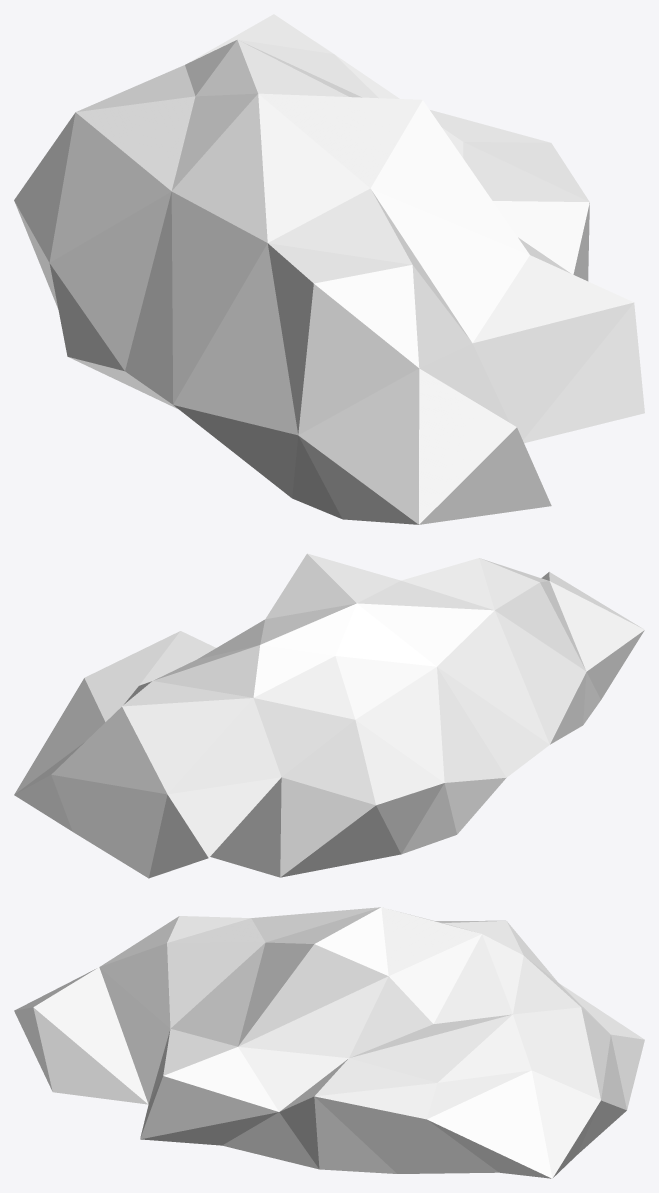
Rendered from RG_Cloud-04.fbx.
3 views of the same model, one above another, from view 1: azimuth 30°, elevation 25°; view 2: azimuth 150°, elevation 25°; view 3: azimuth 270°, elevation 25° (orthographic). The views are drawn at different scales.
Parts seen in each view (by area): view 1: RG_Cloud-04; view 2: RG_Cloud-04; view 3: RG_Cloud-04.
Part boxes in pixels (x1,y1,x2,y2): RG_Cloud-04: [14, 14, 644, 524]; RG_Cloud-04: [14, 553, 644, 878]; RG_Cloud-04: [14, 907, 644, 1178].
Size of the model in its own units: 139 by 77.9 by 225.
